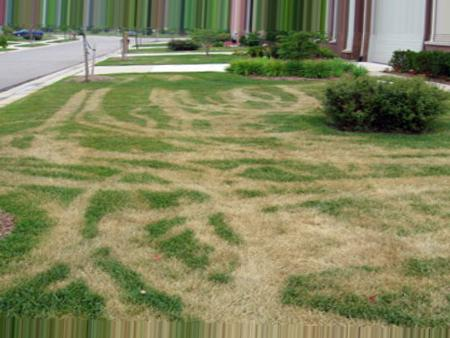patch: (112, 179, 231, 306), (238, 197, 291, 314), (32, 176, 104, 257), (241, 133, 331, 192), (160, 89, 224, 148), (300, 210, 357, 266), (342, 149, 399, 202), (364, 230, 410, 292), (35, 127, 85, 174), (108, 139, 156, 175), (168, 152, 219, 176), (72, 86, 105, 122), (413, 222, 446, 258), (10, 265, 71, 284), (234, 88, 265, 125), (2, 141, 22, 184), (367, 209, 403, 229), (1, 209, 15, 233)
